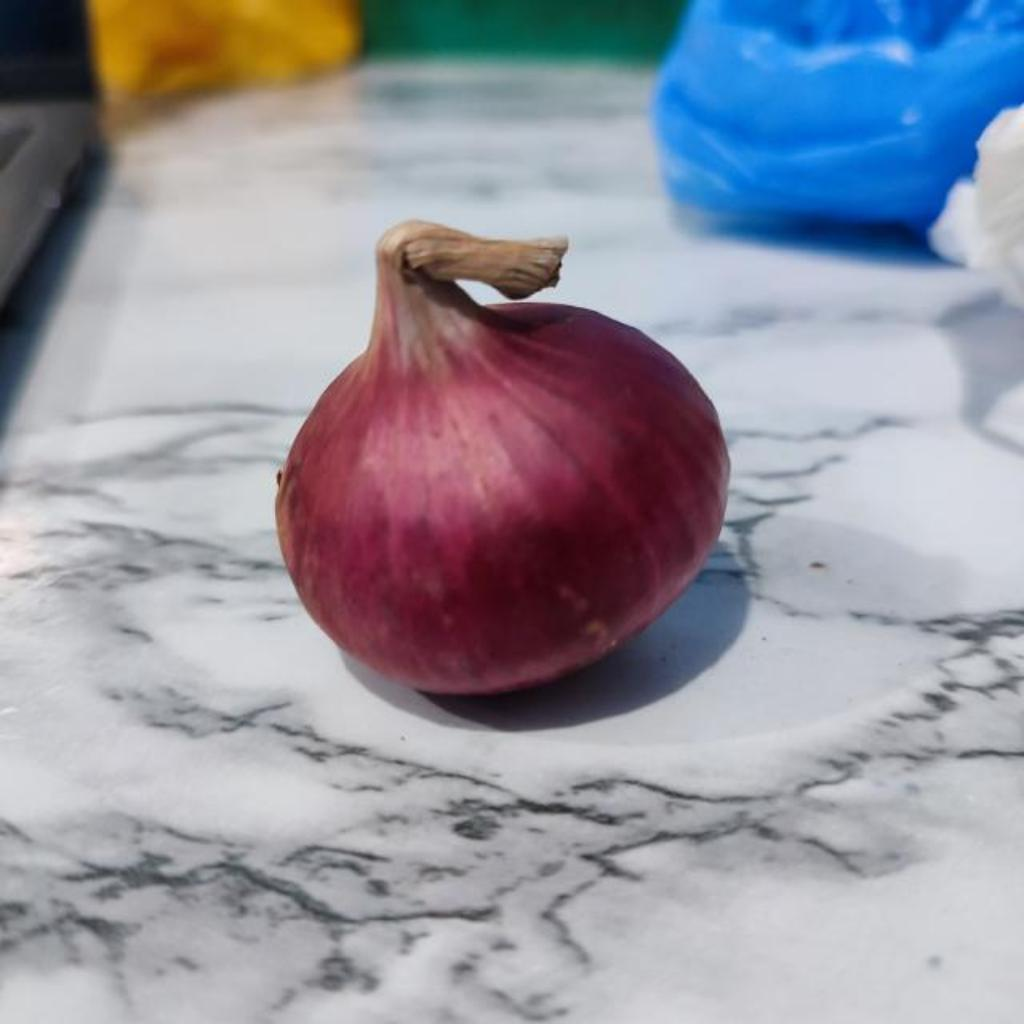Onion: (277, 221, 730, 695)
